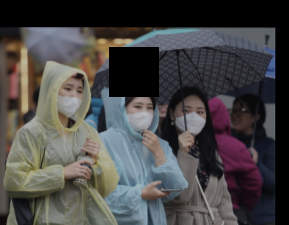with_mask: (56, 80, 86, 119), (173, 102, 207, 136), (126, 99, 156, 133)
without_mask: (227, 103, 252, 131)
